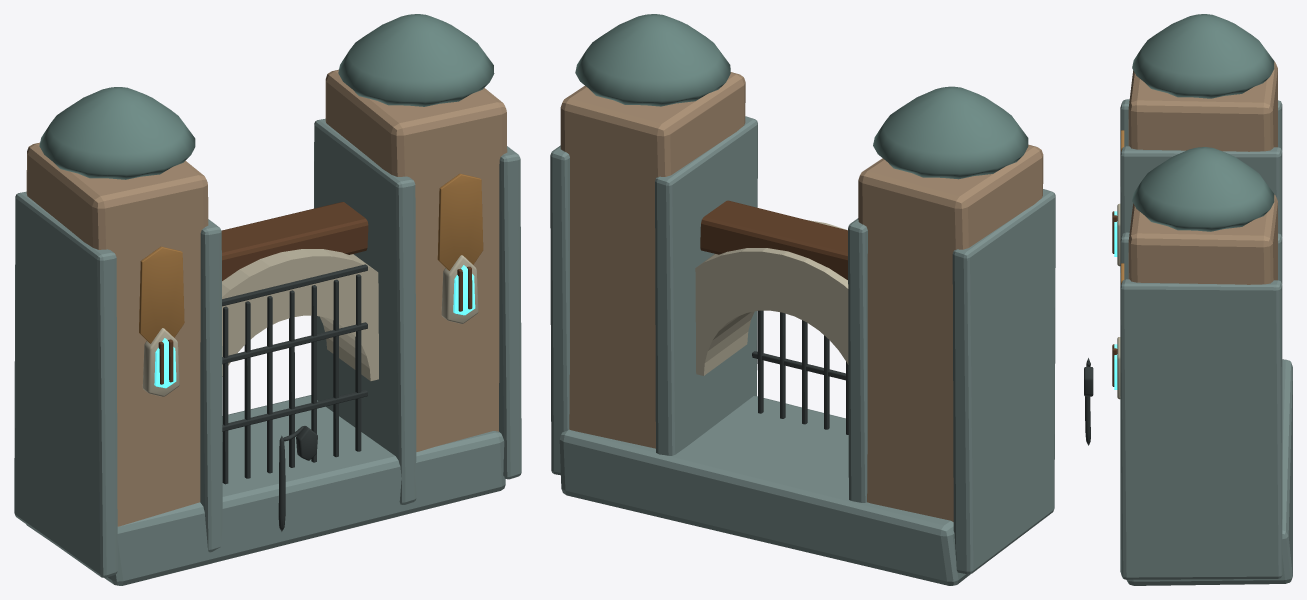
Rendered from gatehouse.glb.
The picture shows the model from 3 angles, left to right: view 1: azimuth 30°, elevation 25°; view 2: azimuth 150°, elevation 25°; view 3: azimuth 270°, elevation 25°; orthographic projection. The views are drawn at different scales.
Visible parts, largest first — view 1: Gate tower -1 corner pier -1, Gatehouse continuous foundation, Gate tower complete mass -1, Gate tower complete mass 1, Gate tower 1 corner pier -1, Gatehouse arch, Gate tower roof -1, Gate tower roof 1, Gate tower 1 corner pier 1, Gate tower -1 corner pier 1, Carved gate beam, Gate banner -1 (+13 smaller); view 2: Gatehouse continuous foundation, Gate tower complete mass -1, Gate tower complete mass 1, Gate tower -1 corner pier -1, Gate tower 1 corner pier -1, Gatehouse arch, Gate tower roof -1, Gate tower roof 1, Carved gate beam, Gate tower 1 corner pier 1, Gate tower -1 corner pier 1, Portcullis vertical 6; view 3: Gate tower 1 corner pier 1, Gate tower complete mass 1, Gate tower complete mass -1, Gate tower roof 1, Gate tower roof -1, Gate tower -1 corner pier 1, Gatehouse continuous foundation, Gate tower -1 corner pier -1, Gate tower 1 corner pier -1, Gate approach lantern lantern cage, Gate approach lantern post.
Boxes of the visible parts, left/top/right/bottom form: Gate tower -1 corner pier -1: left=14, top=191, right=117, bottom=577; Gatehouse continuous foundation: left=26, top=395, right=505, bottom=585; Gate tower complete mass -1: left=26, top=142, right=208, bottom=526; Gate tower complete mass 1: left=325, top=69, right=507, bottom=451; Gate tower 1 corner pier -1: left=314, top=118, right=416, bottom=504; Gatehouse arch: left=222, top=249, right=378, bottom=380; Gate tower roof -1: left=39, top=87, right=195, bottom=179; Gate tower roof 1: left=338, top=14, right=494, bottom=106; Gate tower 1 corner pier 1: left=499, top=146, right=521, bottom=479; Gate tower -1 corner pier 1: left=200, top=219, right=222, bottom=552; Carved gate beam: left=221, top=202, right=368, bottom=280; Gate banner -1: left=139, top=246, right=184, bottom=343; Gatehouse continuous foundation: left=559, top=396, right=970, bottom=585; Gate tower complete mass -1: left=858, top=144, right=1043, bottom=521; Gate tower complete mass 1: left=560, top=72, right=745, bottom=448; Gate tower -1 corner pier -1: left=952, top=189, right=1055, bottom=574; Gate tower 1 corner pier -1: left=655, top=116, right=757, bottom=455; Gatehouse arch: left=695, top=220, right=848, bottom=375; Gate tower roof -1: left=873, top=86, right=1028, bottom=179; Gate tower roof 1: left=575, top=14, right=730, bottom=106; Carved gate beam: left=700, top=200, right=847, bottom=279; Gate tower 1 corner pier 1: left=550, top=145, right=569, bottom=475; Gate tower -1 corner pier 1: left=848, top=218, right=867, bottom=502; Portcullis vertical 6: left=757, top=310, right=763, bottom=413; Gate tower 1 corner pier 1: left=1120, top=279, right=1282, bottom=579; Gate tower complete mass 1: left=1128, top=194, right=1277, bottom=284; Gate tower complete mass -1: left=1128, top=61, right=1277, bottom=151; Gate tower roof 1: left=1132, top=147, right=1274, bottom=231; Gate tower roof -1: left=1132, top=14, right=1274, bottom=98; Gate tower -1 corner pier 1: left=1120, top=146, right=1282, bottom=239; Gatehouse continuous foundation: left=1126, top=359, right=1292, bottom=585; Gate tower -1 corner pier -1: left=1120, top=99, right=1282, bottom=153; Gate tower 1 corner pier -1: left=1120, top=232, right=1282, bottom=286; Gate approach lantern lantern cage: left=1084, top=367, right=1093, bottom=396; Gate approach lantern post: left=1085, top=358, right=1090, bottom=445.
Size of the model in its own units: 4.7 by 4.73 by 2.15.
